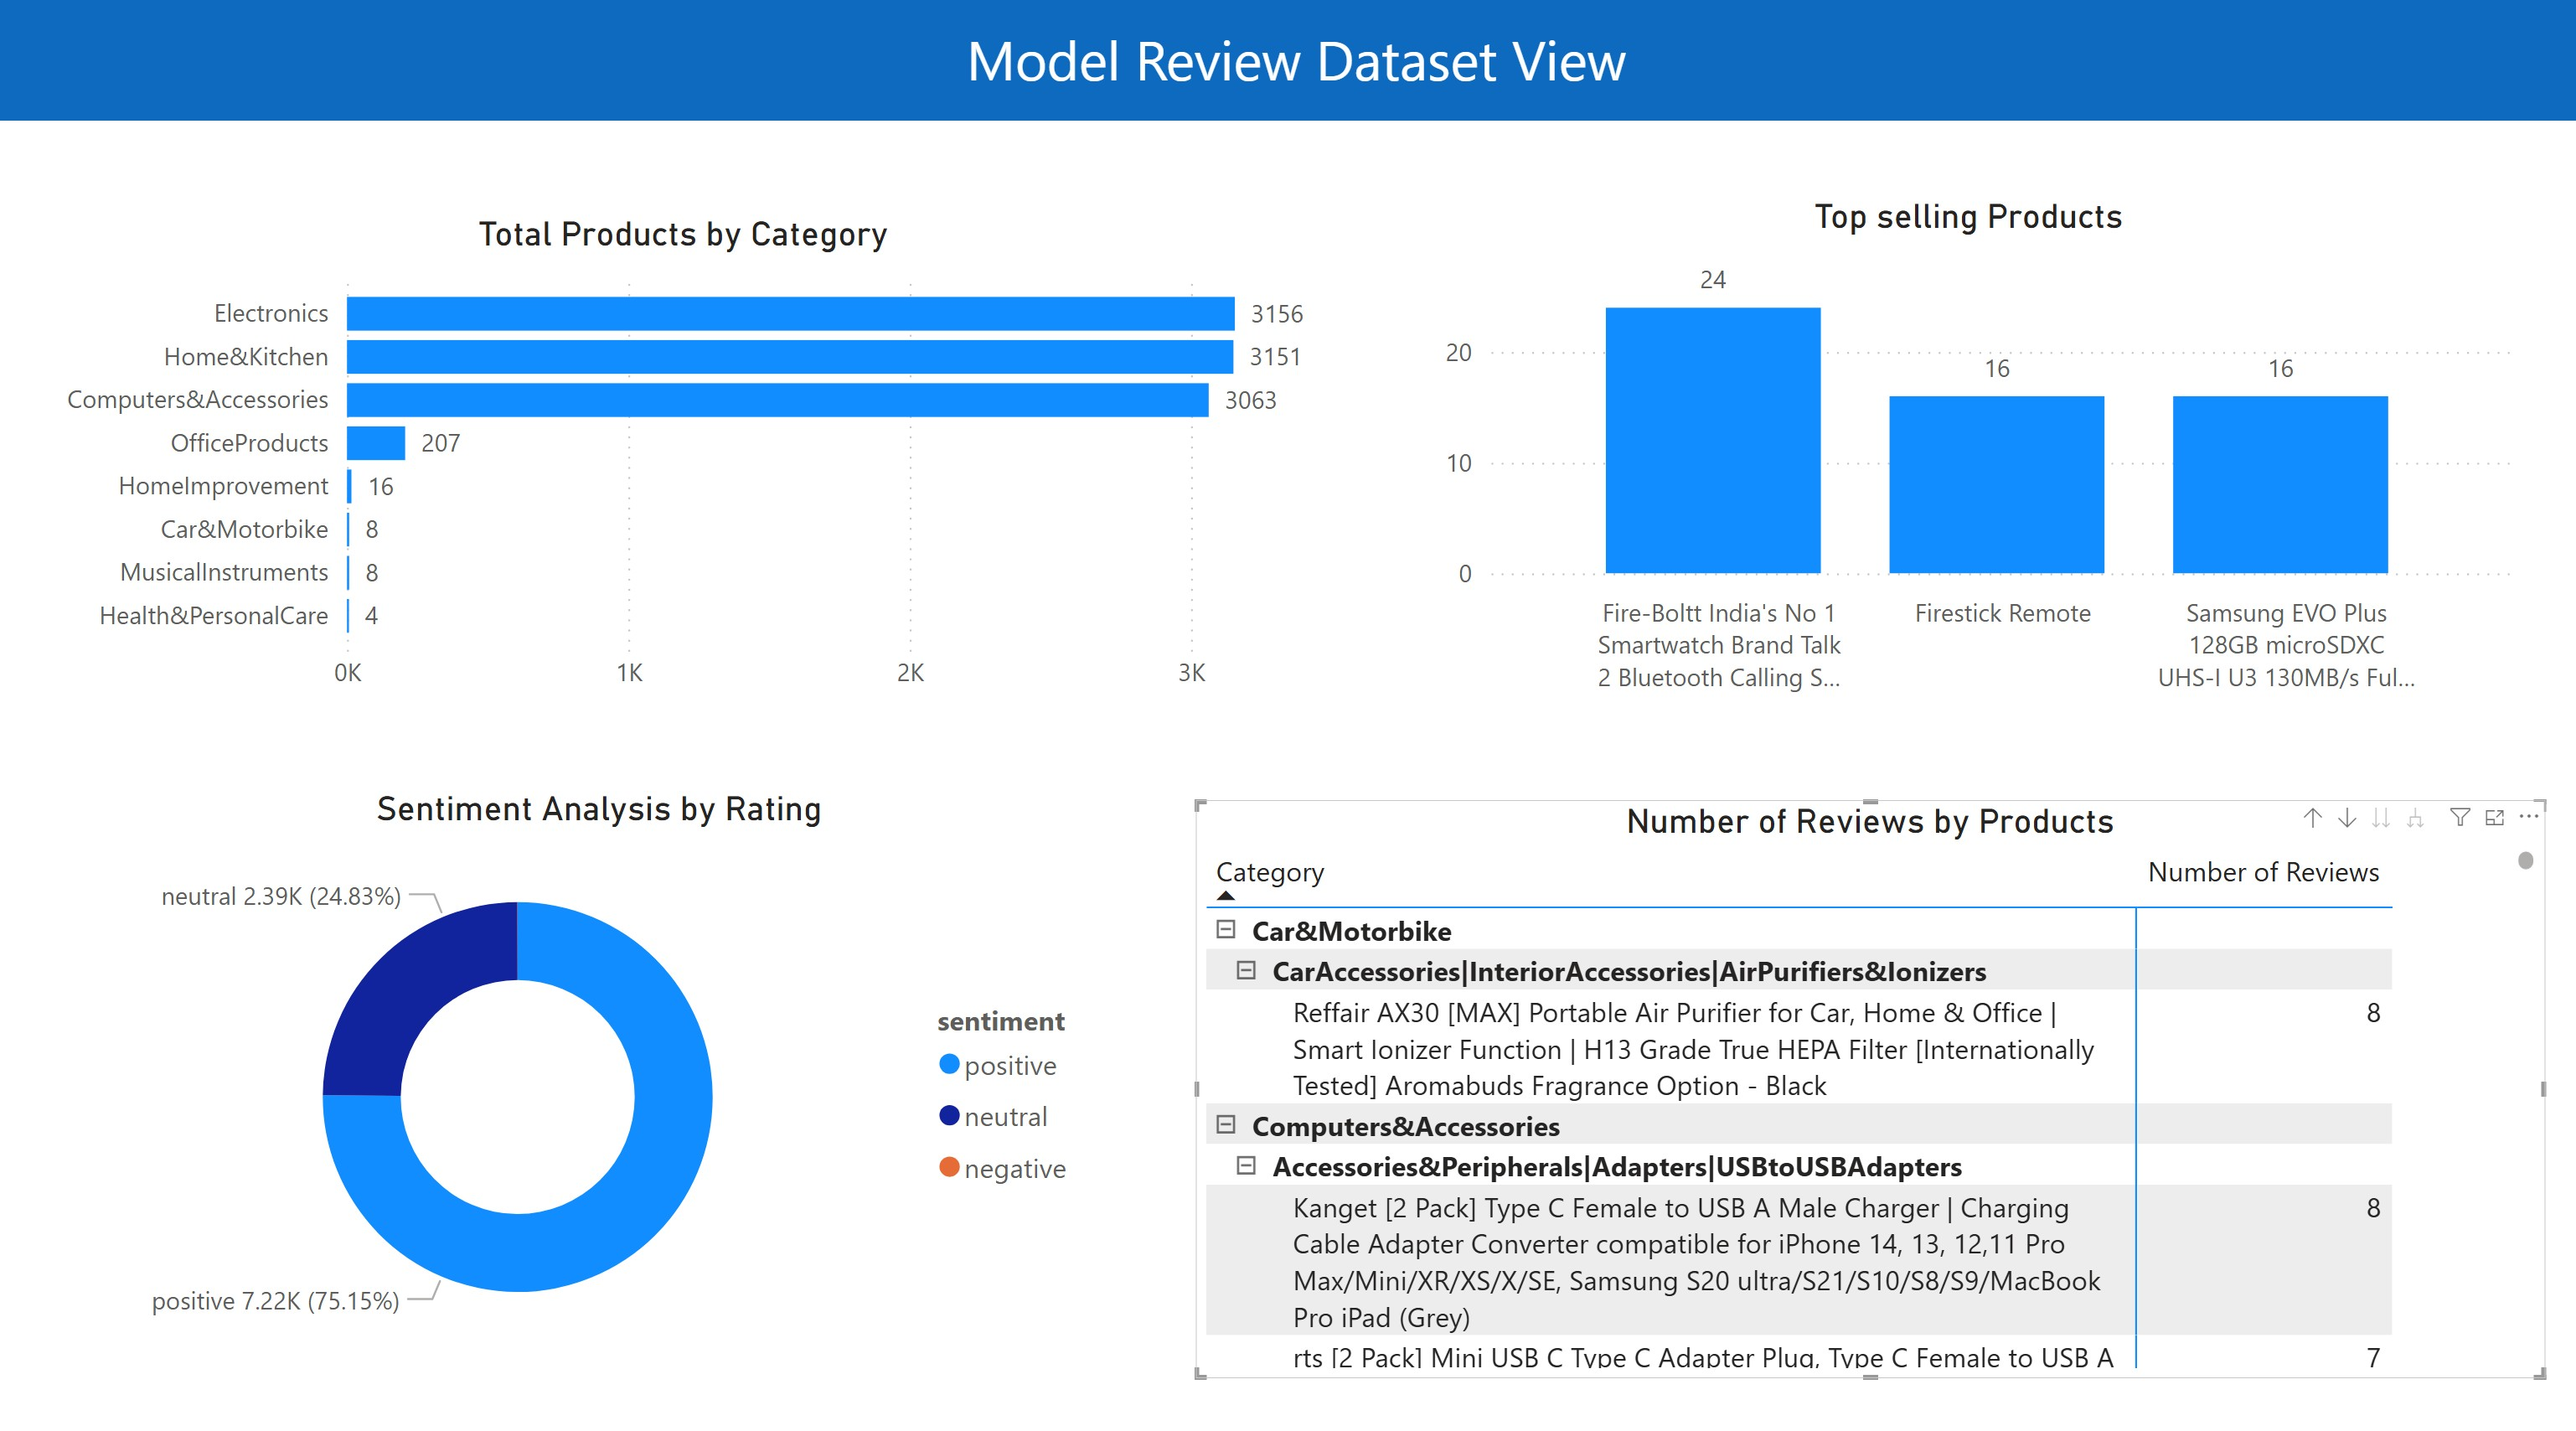

What the dashboard file says about the page in this screenshot:
{"tool":"powerbi","page":{"name":"model review report","canvas":[1280,720],"ordinal":0},"visuals":[{"type":"donutChart","title":"Sentiment Analysis by Rating","fields":{"Category":["training_dataset.sentiment"],"Y":["CountNonNull(training_dataset.product_name)"]},"box":[44.5,390.4,504.9,284.5],"z":0},{"type":"barChart","title":"Total Products by Category","fields":{"Y":["CountNonNull(training_dataset.product_name)"],"Category":["training_dataset.Category","training_dataset.Sub_category"]},"box":[20.3,107.9,635.6,243.9],"z":1000},{"type":"columnChart","title":"Top selling Products","fields":{"Category":["training_dataset.product_name"],"Y":["CountNonNull(training_dataset.product_name)"]},"box":[697.8,99.4,545.4,252.4],"z":2000},{"type":"pivotTable","title":"Number of Reviews by Products","fields":{"Rows":["training_dataset.Category","training_dataset.Sub_category","training_dataset.product_name"],"Values":["Count(training_dataset.review_content)"]},"box":[590.5,396.9,663.8,284.5],"z":3000},{"type":"shape","title":"Model R","box":[0,0,1279.8,62.8],"z":4000}]}

Visuals, with their boxes in screenshot pixels (x1, y1, x2, y2), scaled from the page's 1280x720 canvas onto the 2576x1431 screenshot:
"Sentiment Analysis by Rating" donutChart: <region>90, 776, 1106, 1341</region>
"Total Products by Category" barChart: <region>41, 214, 1320, 700</region>
"Top selling Products" columnChart: <region>1404, 198, 2502, 700</region>
"Number of Reviews by Products" pivotTable: <region>1189, 789, 2524, 1354</region>
"Model R" shape: <region>0, 0, 2575, 125</region>
